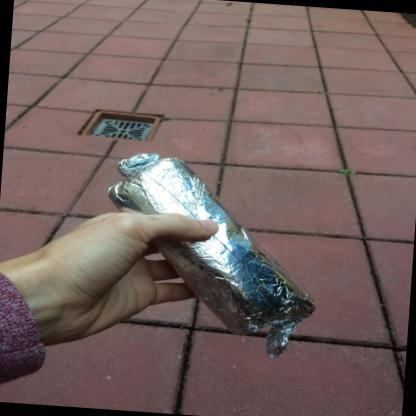Metal: (107, 153, 315, 358)
